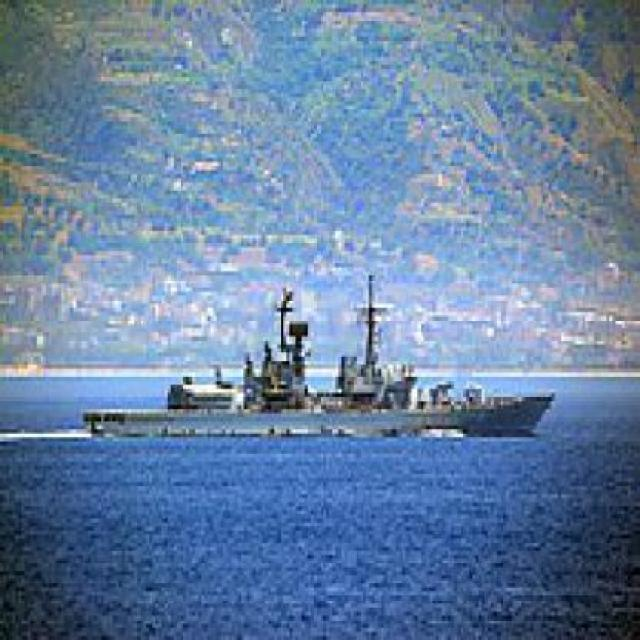warship2: (56, 260, 583, 443)
